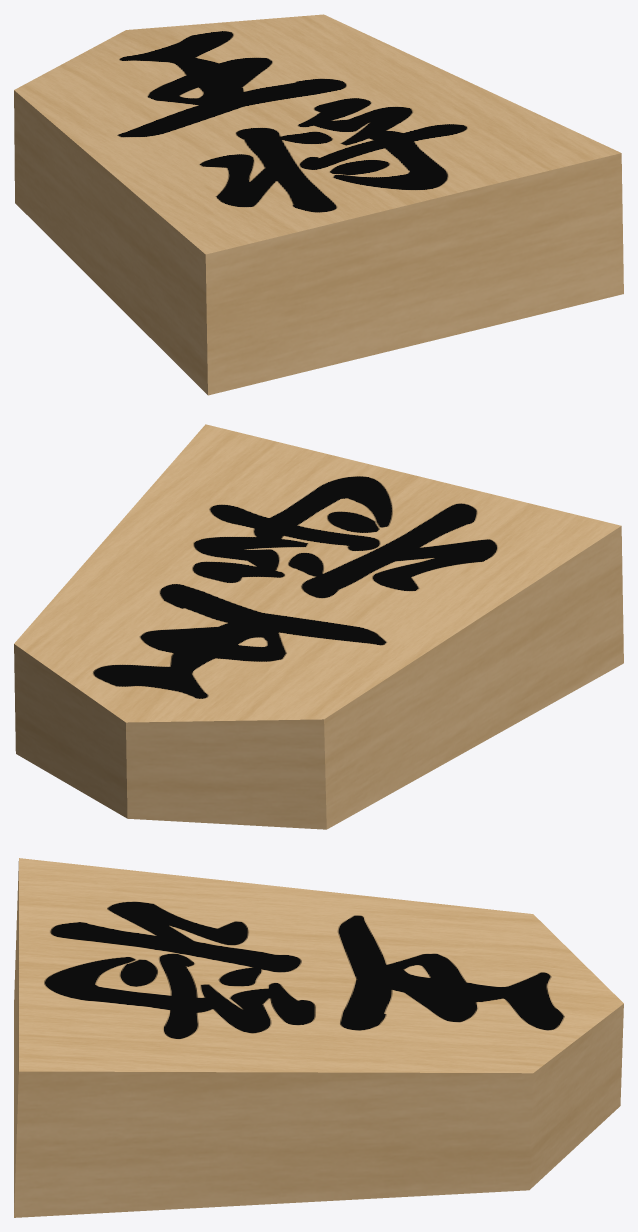
Rendered from osyo.fbx.
3 renders of one model, top to bottom at view 1: azimuth 30°, elevation 25°; view 2: azimuth 150°, elevation 25°; view 3: azimuth 270°, elevation 25°, orthographic. The views are drawn at different scales.
Visible parts, largest first — view 1: gyoku; view 2: gyoku; view 3: gyoku.
Part boxes in pixels (x1=…): gyoku: x1=14, y1=14, x2=623, y2=395; gyoku: x1=14, y1=424, x2=623, y2=829; gyoku: x1=14, y1=858, x2=623, y2=1217.
Size of the model in its own units: 25 by 8 by 30.19.
Materials: 1 (1 with a texture image).
